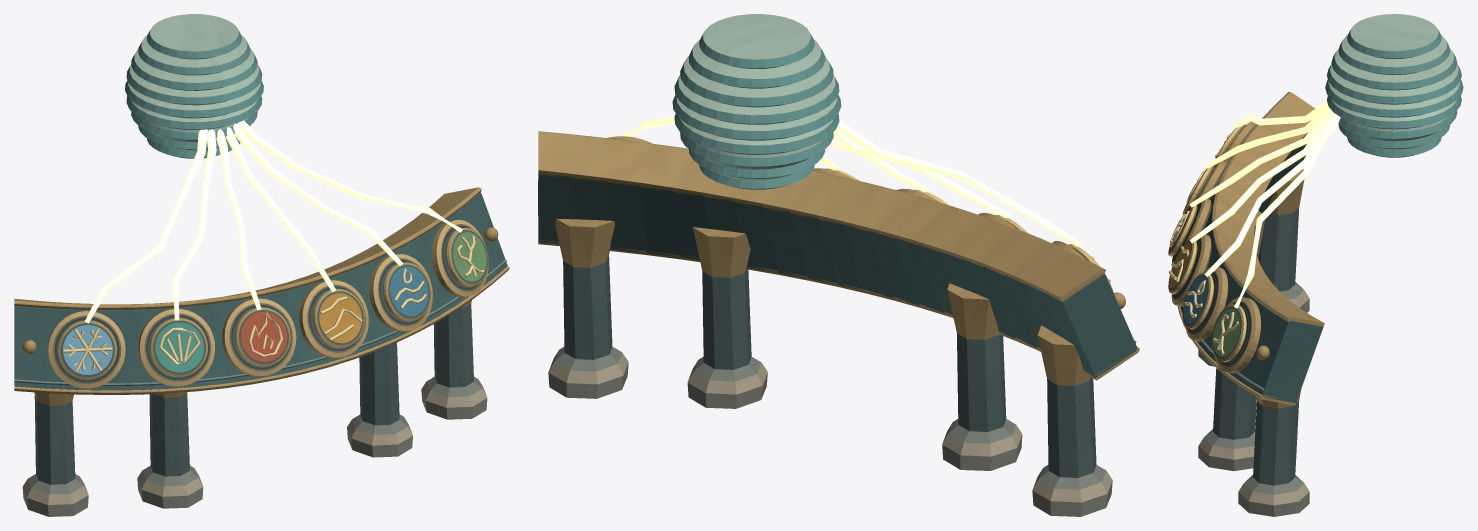
Rendered from crest_register.glb.
3 renders of one model, left to right at view 1: azimuth 30°, elevation 25°; view 2: azimuth 150°, elevation 25°; view 3: azimuth 270°, elevation 25°, orthographic. The views are drawn at different scales.
Parts seen in each view (by area): view 1: Register, DormantGlass, Crest_snow, Crest_tide, Crest_volcano, Crest_desert, Crest_lake, Crest_forest, Filament_snow, Filament_forest, Filament_lake, Filament_tide (+2 smaller); view 2: Register, DormantGlass, Filament_snow, Filament_tide, Filament_volcano; view 3: Register, DormantGlass, Crest_forest, Filament_forest, Crest_lake, Filament_lake, Filament_desert, Filament_volcano, Crest_desert, Filament_tide, Filament_snow, Crest_volcano (+1 smaller).
Boxes of the visible parts, x1,y1,x2,y2 form: Register: (14, 187, 509, 516); DormantGlass: (125, 14, 263, 158); Crest_snow: (58, 320, 116, 379); Crest_tide: (150, 318, 207, 376); Crest_volcano: (235, 307, 290, 366); Crest_desert: (313, 289, 364, 347); Crest_lake: (383, 262, 430, 321); Crest_forest: (446, 228, 488, 286); Filament_snow: (85, 129, 207, 323); Filament_forest: (238, 120, 462, 232); Filament_lake: (233, 123, 402, 265); Filament_tide: (172, 129, 216, 320); Register: (538, 131, 1139, 516); DormantGlass: (672, 14, 841, 189); Filament_snow: (836, 119, 1082, 247); Filament_tide: (833, 129, 1010, 218); Filament_volcano: (829, 138, 928, 192); Register: (1171, 92, 1324, 516); DormantGlass: (1325, 14, 1463, 157); Crest_forest: (1211, 304, 1246, 362); Filament_forest: (1234, 114, 1340, 308); Crest_lake: (1182, 272, 1214, 329); Filament_lake: (1204, 113, 1335, 276); Filament_desert: (1190, 111, 1333, 243); Filament_volcano: (1189, 108, 1331, 207); Crest_desert: (1168, 238, 1197, 294); Filament_tide: (1204, 105, 1329, 168); Filament_snow: (1234, 101, 1327, 127); Crest_volcano: (1168, 205, 1197, 256).
Size of the model in its own units: 4.3 by 3.13 by 2.24.
2 materials, 1 textured.
